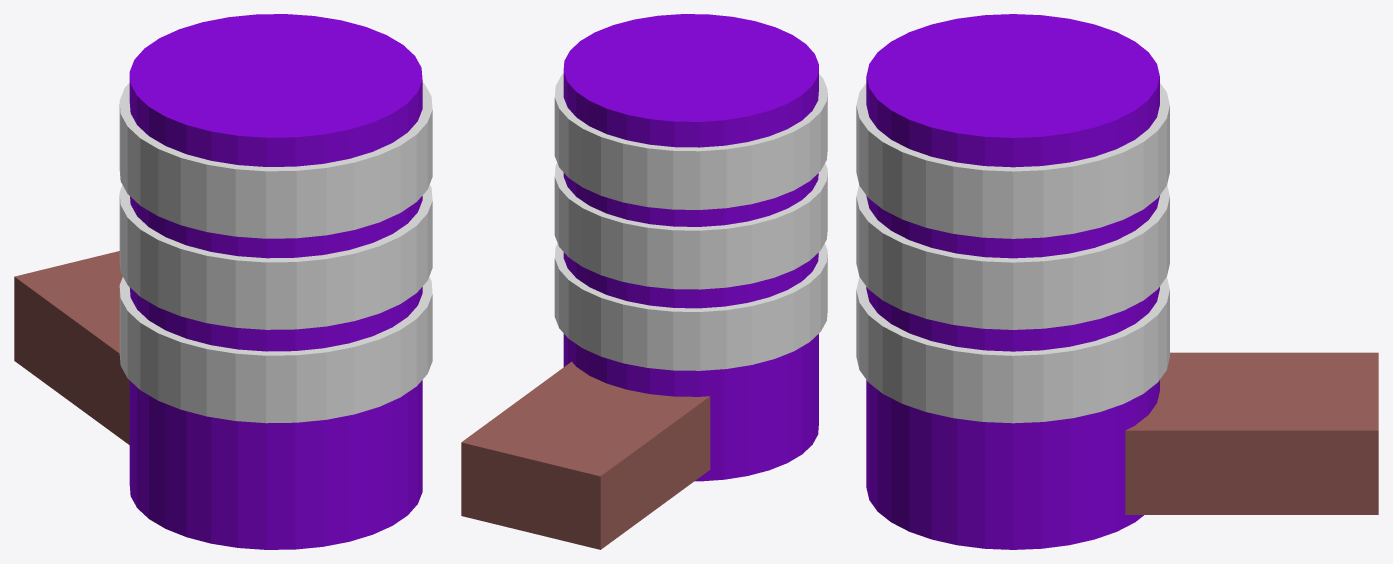
Rendered from cylinder_house.glb.
3 renders of one model, left to right at view 1: azimuth 30°, elevation 25°; view 2: azimuth 150°, elevation 25°; view 3: azimuth 270°, elevation 25°, orthographic. The views are drawn at different scales.
Visible parts, largest first — view 1: cylinder_house_main, cylinder_house_window_1, cylinder_house_window_3, cylinder_house_window_2, cylinder_house_down_room; view 2: cylinder_house_main, cylinder_house_down_room, cylinder_house_window_1, cylinder_house_window_3, cylinder_house_window_2; view 3: cylinder_house_main, cylinder_house_down_room, cylinder_house_window_1, cylinder_house_window_3, cylinder_house_window_2.
Part boxes in pixels (x1=…): cylinder_house_main: x1=129, y1=14, x2=422, y2=549; cylinder_house_window_1: x1=119, y1=82, x2=432, y2=238; cylinder_house_window_3: x1=119, y1=277, x2=432, y2=423; cylinder_house_window_2: x1=119, y1=184, x2=432, y2=329; cylinder_house_down_room: x1=14, y1=251, x2=129, y2=444; cylinder_house_main: x1=563, y1=14, x2=818, y2=481; cylinder_house_down_room: x1=461, y1=361, x2=710, y2=549; cylinder_house_window_1: x1=554, y1=73, x2=827, y2=209; cylinder_house_window_3: x1=554, y1=243, x2=827, y2=370; cylinder_house_window_2: x1=554, y1=163, x2=827, y2=289; cylinder_house_main: x1=866, y1=14, x2=1159, y2=549; cylinder_house_down_room: x1=1125, y1=352, x2=1378, y2=514; cylinder_house_window_1: x1=856, y1=83, x2=1169, y2=238; cylinder_house_window_3: x1=856, y1=277, x2=1169, y2=423; cylinder_house_window_2: x1=856, y1=185, x2=1169, y2=329.
Size of the model in its own units: 0.5163 by 0.7486 by 0.8599.
